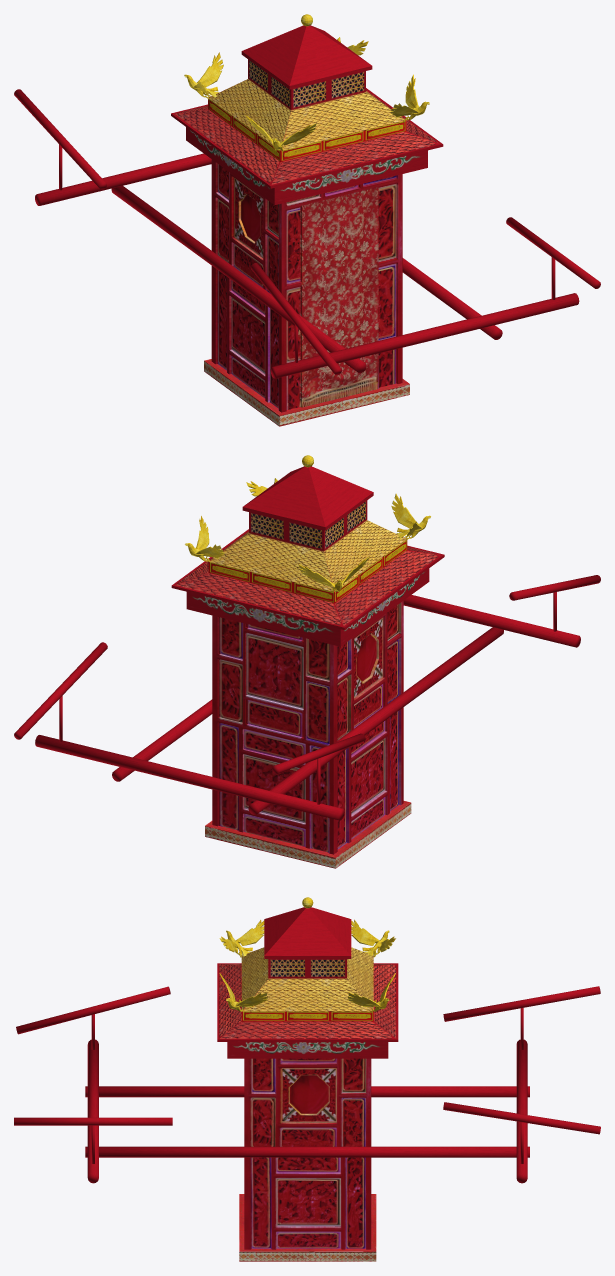
3 views of the same model, one above another, from view 1: azimuth 30°, elevation 25°; view 2: azimuth 150°, elevation 25°; view 3: azimuth 270°, elevation 25° (orthographic). The views are drawn at different scales.
Visible parts, largest first — view 1: Sedan_ori; view 2: Sedan_ori; view 3: Sedan_ori.
Part boxes in pixels (left/top/right/bottom): Sedan_ori: left=14, top=14, right=600, bottom=426; Sedan_ori: left=14, top=455, right=600, bottom=868; Sedan_ori: left=14, top=897, right=600, bottom=1261.
Size of the model in its own units: 200 by 233 by 370.
